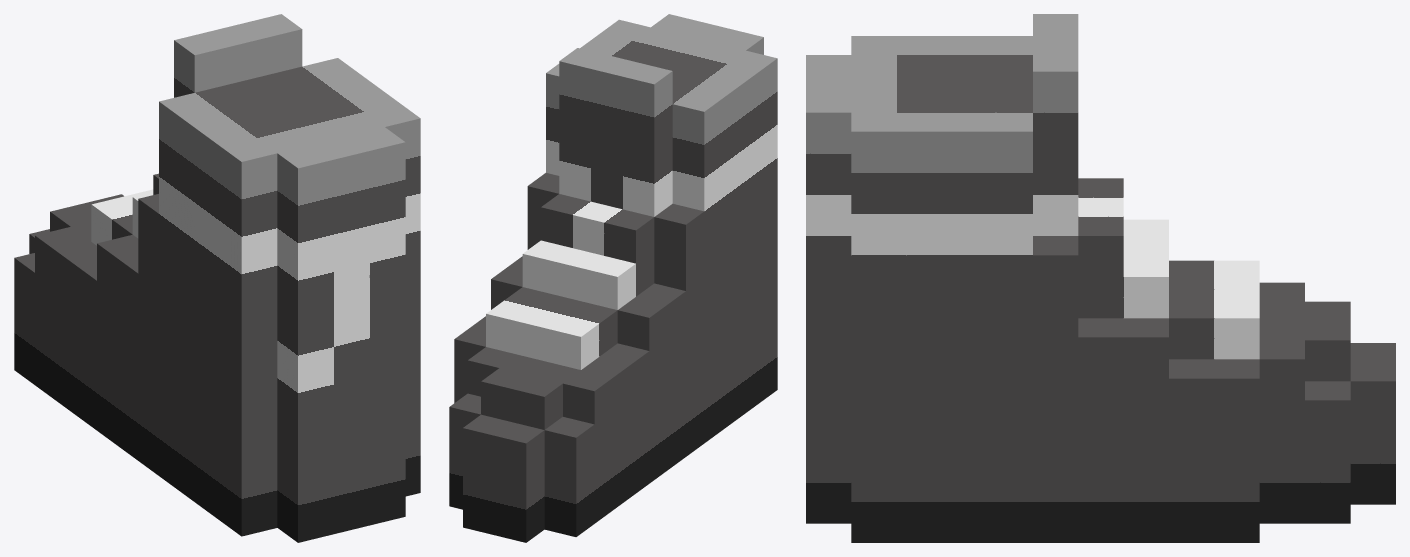
File: BUT_SZ_TY.dae
3 views of the same model, side by side, from view 1: azimuth 30°, elevation 25°; view 2: azimuth 150°, elevation 25°; view 3: azimuth 270°, elevation 25° (orthographic). The views are drawn at different scales.
Visible parts, largest first — view 1: Content; view 2: Content; view 3: Content.
Boxes of the visible parts, left/top/right/bottom form: Content: left=14, top=14, right=420, bottom=542; Content: left=449, top=14, right=777, bottom=542; Content: left=806, top=14, right=1395, bottom=542.
Size of the model in its own units: 5 by 11 by 13.
Materials: 1 (1 with a texture image).
